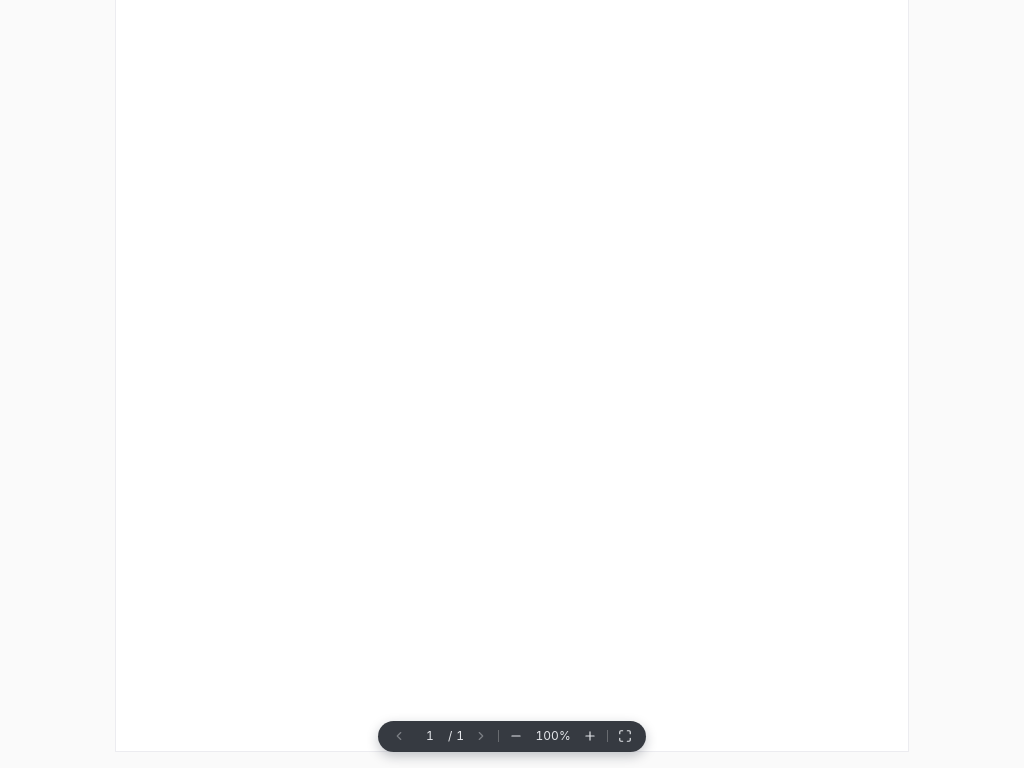
Test case: HwpxViewer › zoom-in 버튼 클릭 시 scale이 25% 증가한다
(page scrolled)
Expected: the field with test id "hwpx-page-input" holds "1", [416,728,444,744]
Expected: the text with test id "hwpx-scale" reads "100%", [533,728,573,744]
Click the button with test id "hwpx-zoom-in" at {"x": 590, "y": 736}, box [583,729,597,743]
(page scrolled)
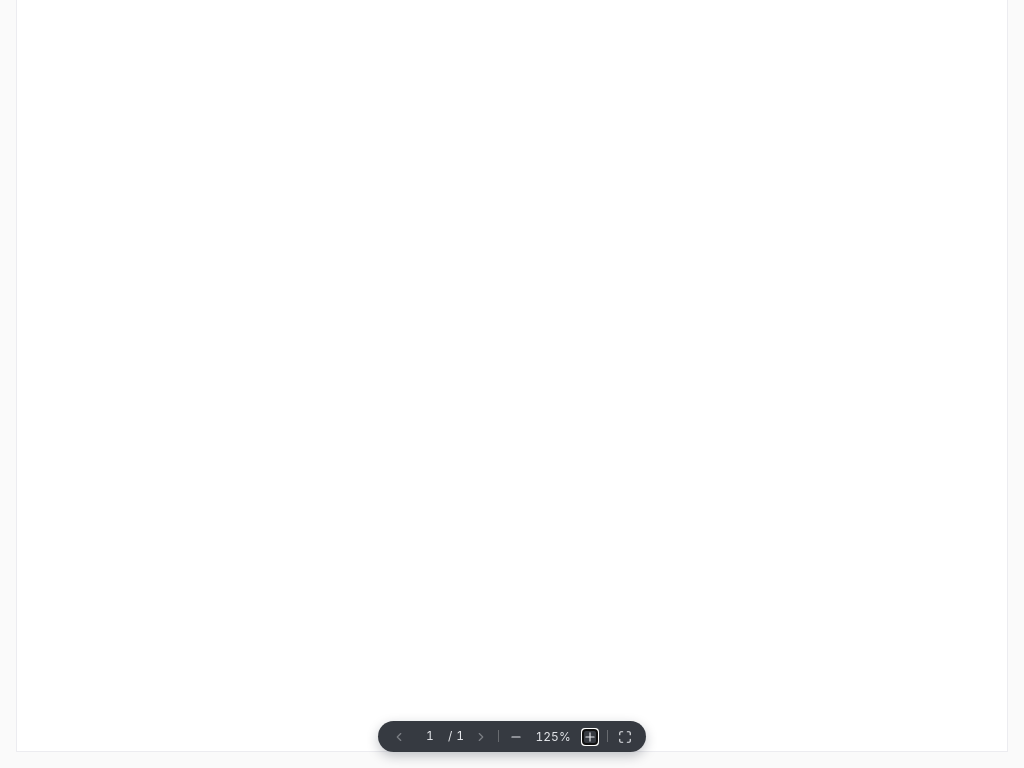
Now the text with test id "hwpx-scale" reads "125%", box [533,729,573,745]
